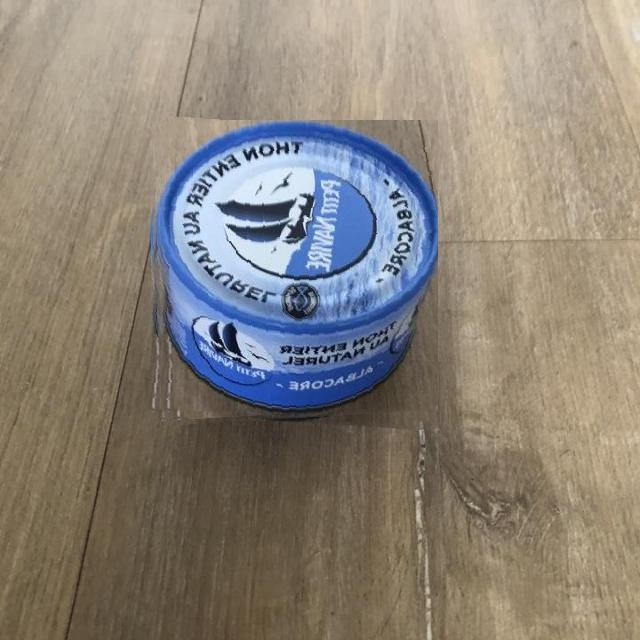recyclable: (147, 120, 438, 426)
